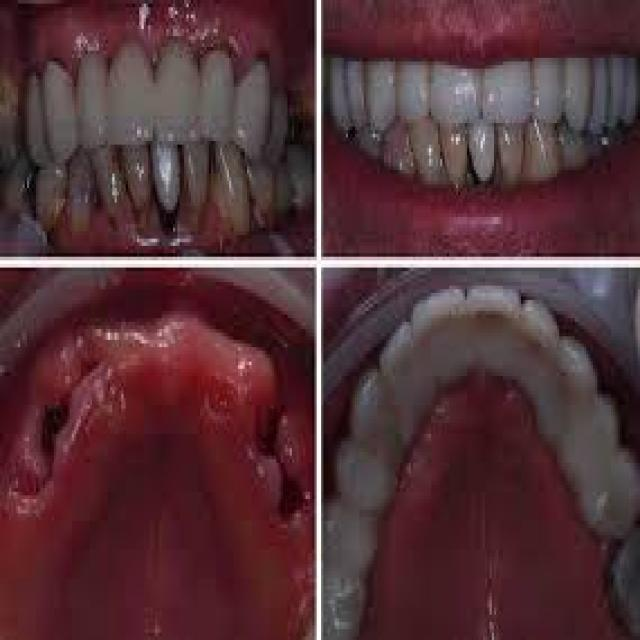tooth: (105, 29, 155, 148), (151, 33, 202, 148), (38, 36, 79, 170), (427, 47, 482, 123), (238, 36, 270, 166), (74, 40, 110, 152), (200, 40, 236, 152), (483, 47, 530, 123), (532, 47, 564, 130), (395, 43, 427, 123), (368, 54, 400, 130), (526, 112, 559, 184), (566, 47, 593, 134), (409, 116, 440, 188), (344, 50, 368, 134), (440, 119, 469, 188), (469, 116, 496, 184), (499, 116, 523, 188), (595, 50, 609, 134)
